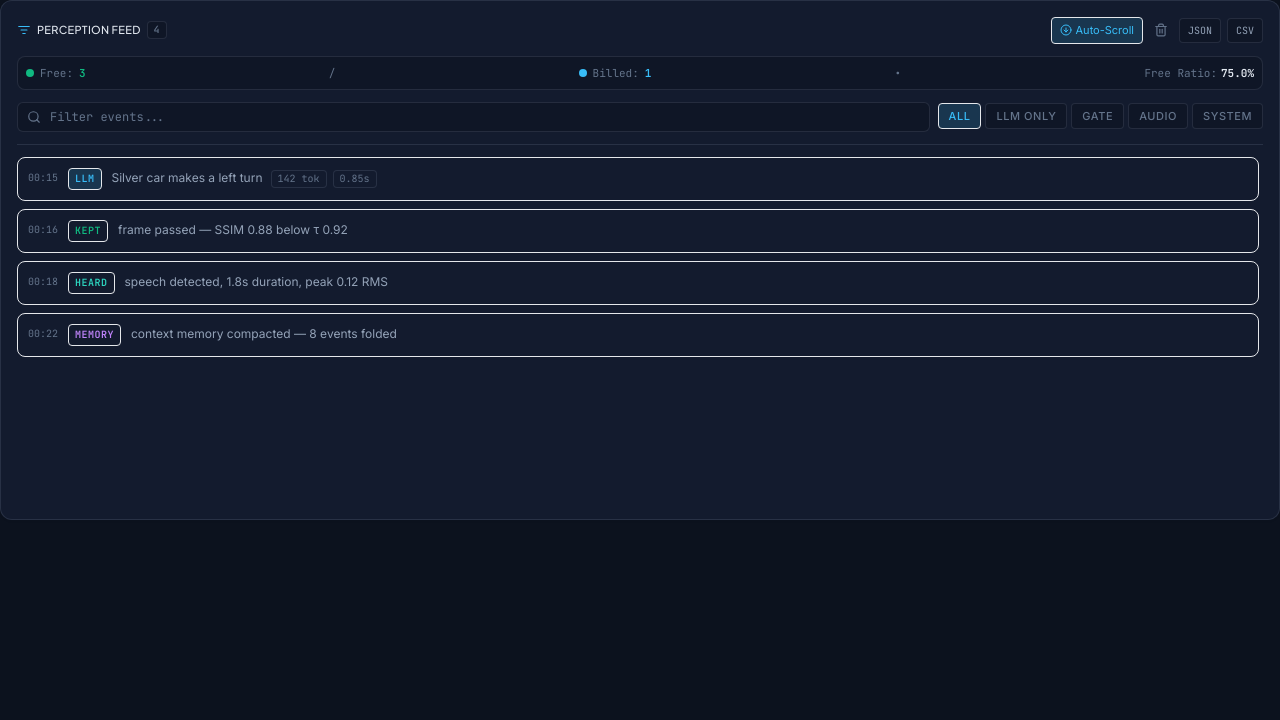
Test: PerceptionFeed Component › filters events using real-time search query
Type "Silver" into the field with id "filterInput".
click(473, 117); type("Silver")  # box x1=17 y1=102 x2=930 y2=132
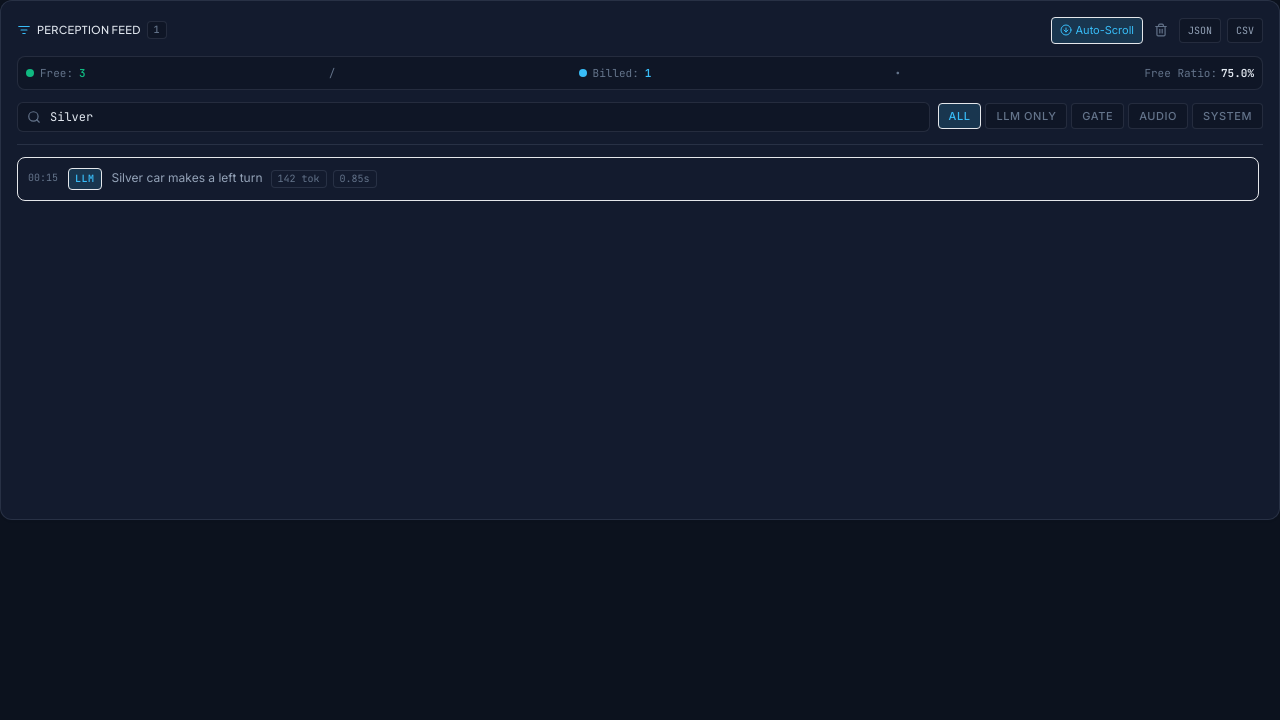
expect the text "Silver car makes a left turn" is shown: met, box x1=112 y1=170 x2=262 y2=185
expect the text "speech detected" is gone: met
Search nonexistent string
Replace the text in the field with id "filterInput" with "NonexistentEventQuery" at (473, 117), box x1=17 y1=102 x2=930 y2=132
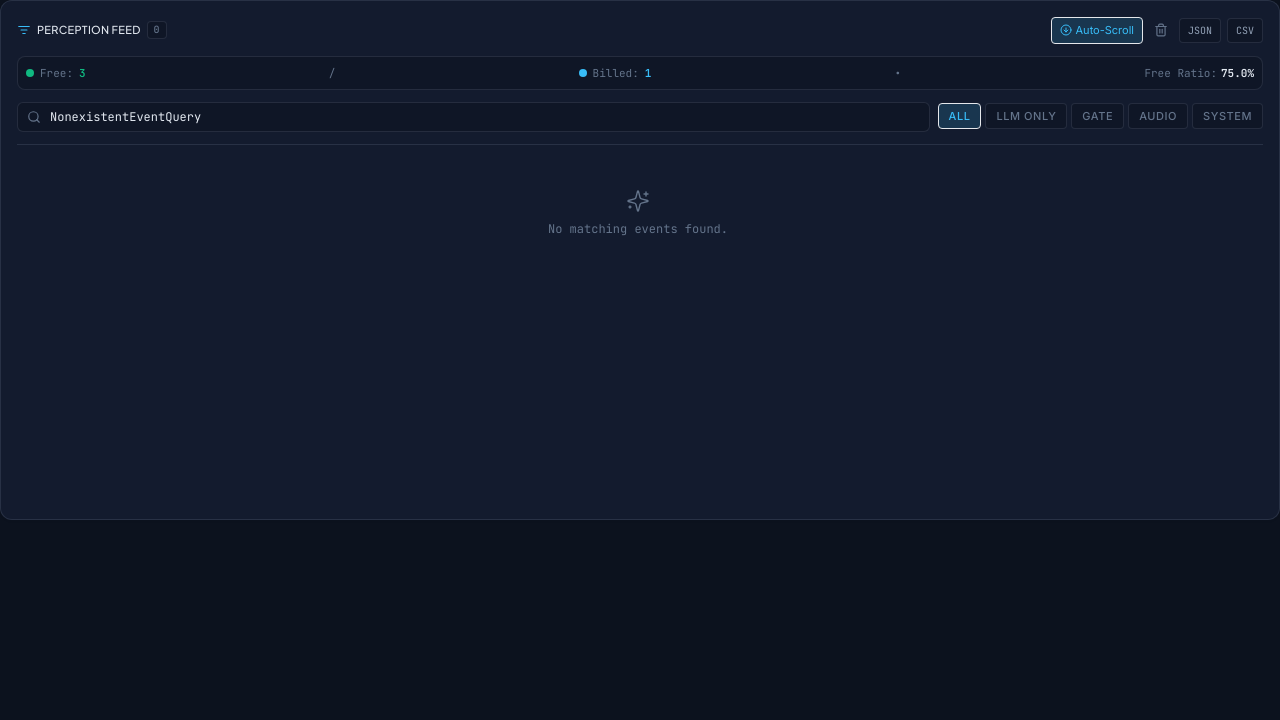
expect the text "No matching events found." is shown: met, box x1=548 y1=221 x2=728 y2=237
